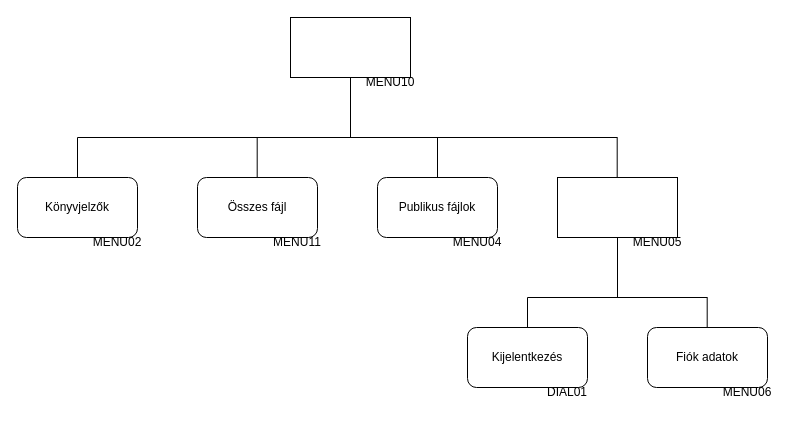
Image size: 795x425. Some labels were removed from this diagram. Each missing label, with the centre of its shape:
Admin főmenü: (x=350, y=47)
Saját fiók: (x=617, y=207)
